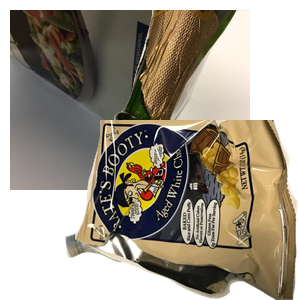cardboard: (10, 10, 250, 190)
glass: (111, 10, 300, 158)
plastic: (63, 170, 278, 300)
trash: (75, 120, 300, 300)
